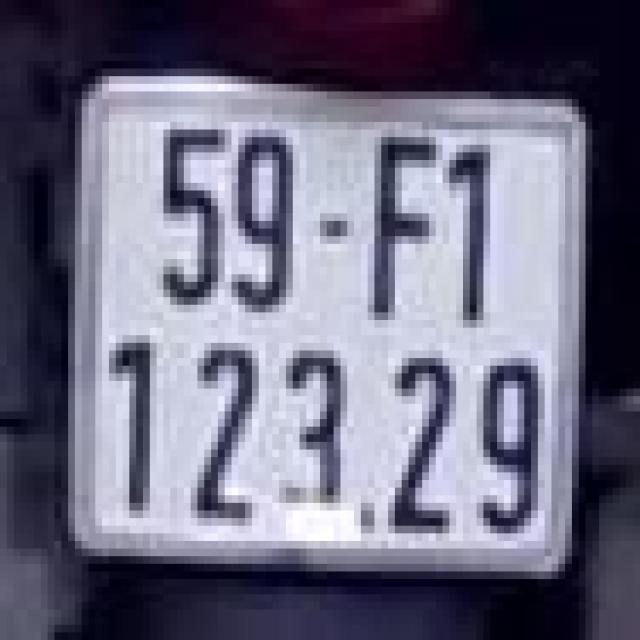1: (442, 122, 504, 328), (109, 312, 163, 548)
2: (381, 339, 463, 545), (177, 328, 259, 533)
3: (272, 328, 361, 533)
5: (150, 111, 224, 316)
9: (470, 332, 558, 552), (232, 114, 306, 328)
F: (357, 130, 446, 328)
